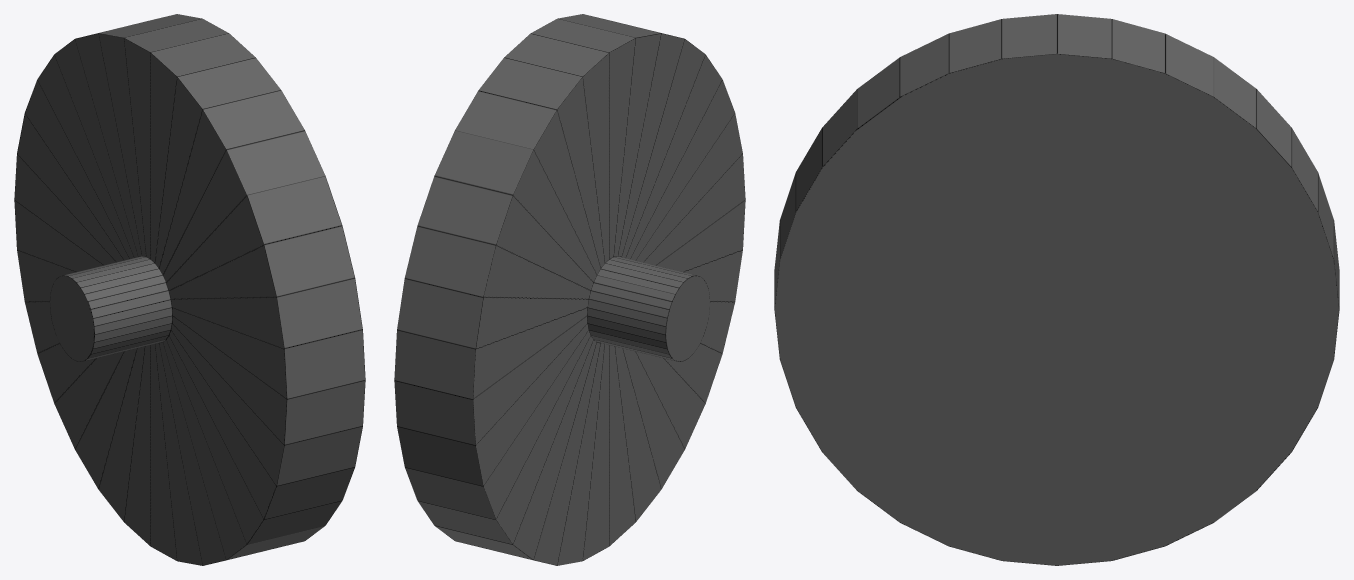
The model's file is med_wheel.obj.
The picture shows the model from 3 angles, left to right: view 1: azimuth 30°, elevation 25°; view 2: azimuth 150°, elevation 25°; view 3: azimuth 270°, elevation 25°; orthographic projection. The views are drawn at different scales.
Parts seen in each view (by area): view 1: med_wheel_Cylinder.002; view 2: med_wheel_Cylinder.002; view 3: med_wheel_Cylinder.002.
Part boxes in pixels (x1,y1,x2,y2): med_wheel_Cylinder.002: (14, 14, 365, 565); med_wheel_Cylinder.002: (394, 14, 745, 565); med_wheel_Cylinder.002: (774, 14, 1339, 565).
Size of the model in its own units: 4 by 12 by 12.
1 material, 1 textured.
